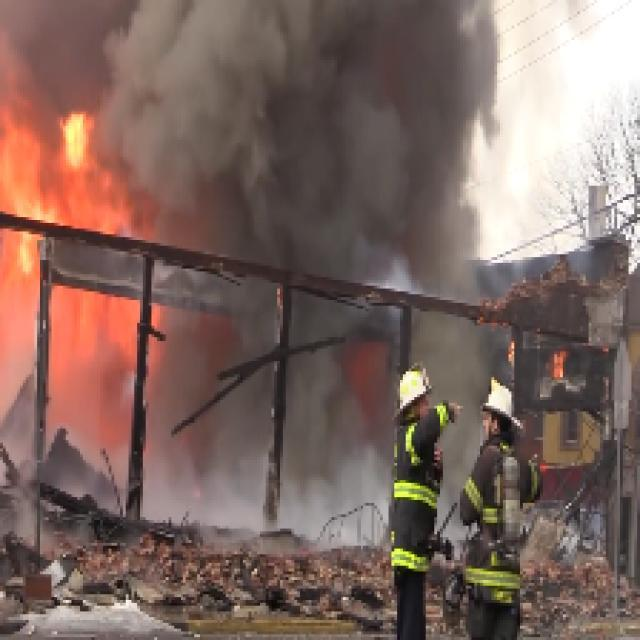Smoke: (83, 4, 481, 292)
